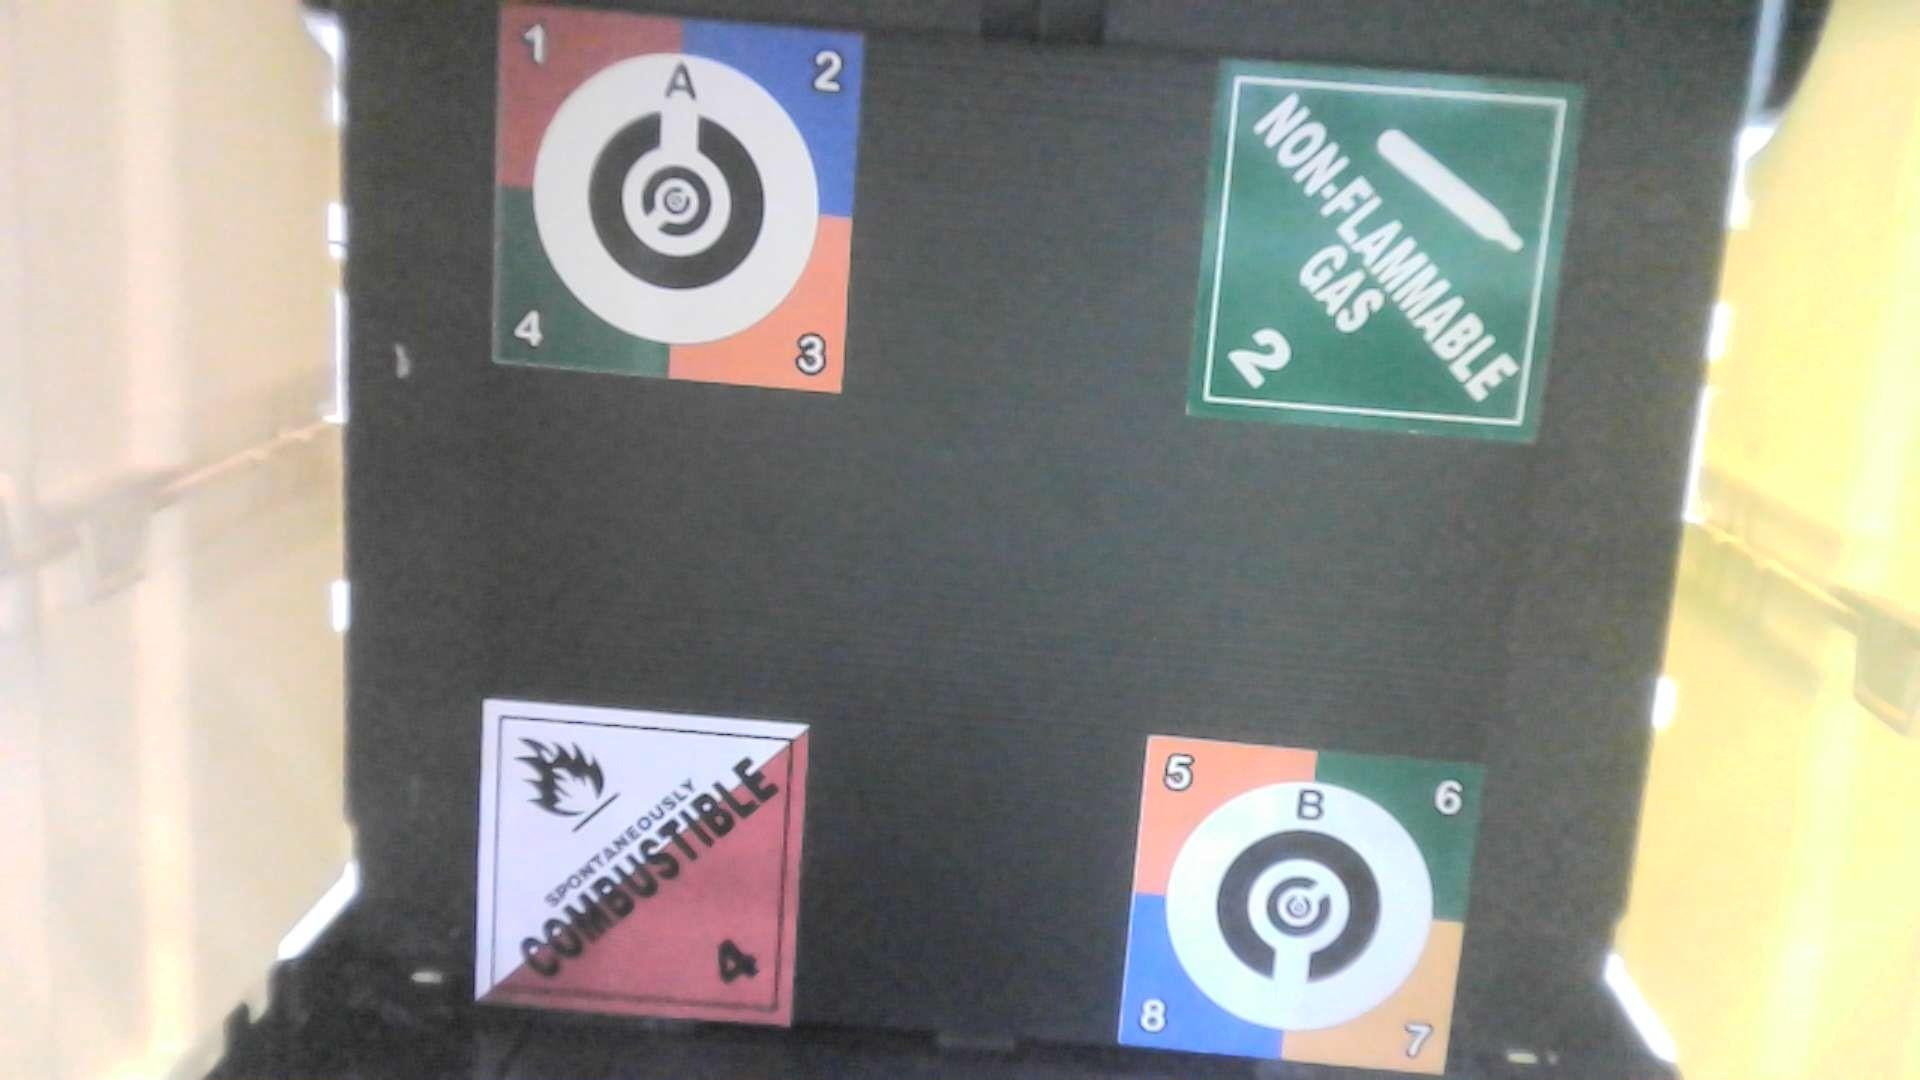non-flammable-gas: (1184, 49, 1590, 451)
spontaneously-combustible: (458, 673, 820, 1054)
